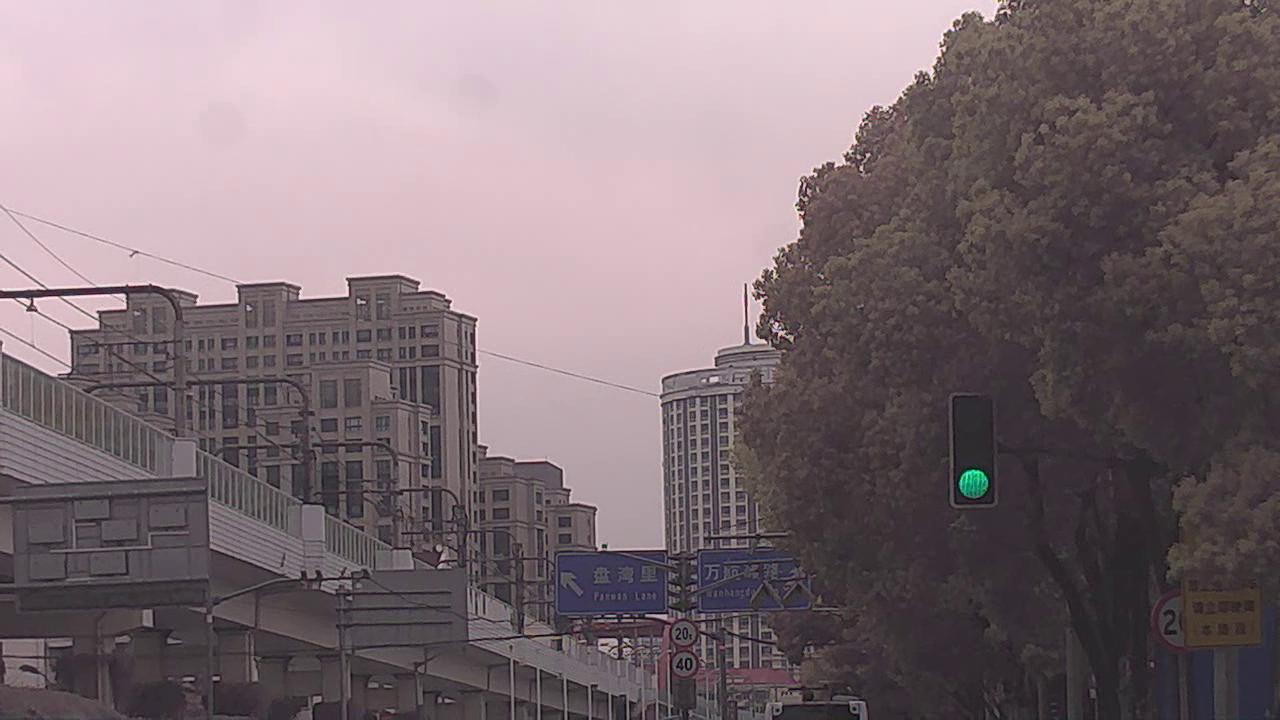traffic_light: (956, 390, 995, 499)
